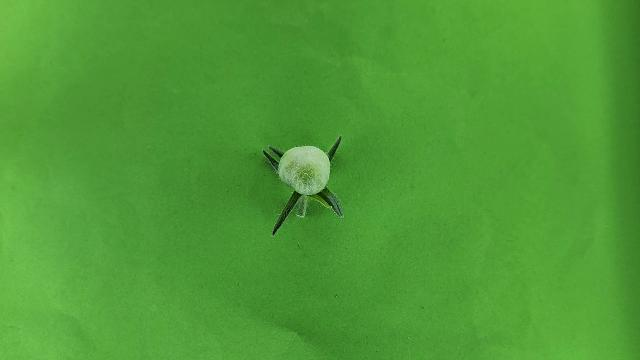Fruit Maturation: (277, 145, 331, 195)
